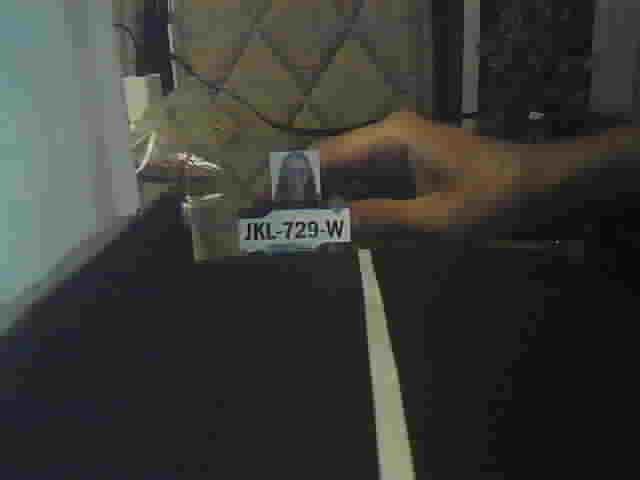PLACA: (238, 207, 352, 254)
ROSTRO: (273, 151, 319, 200)
